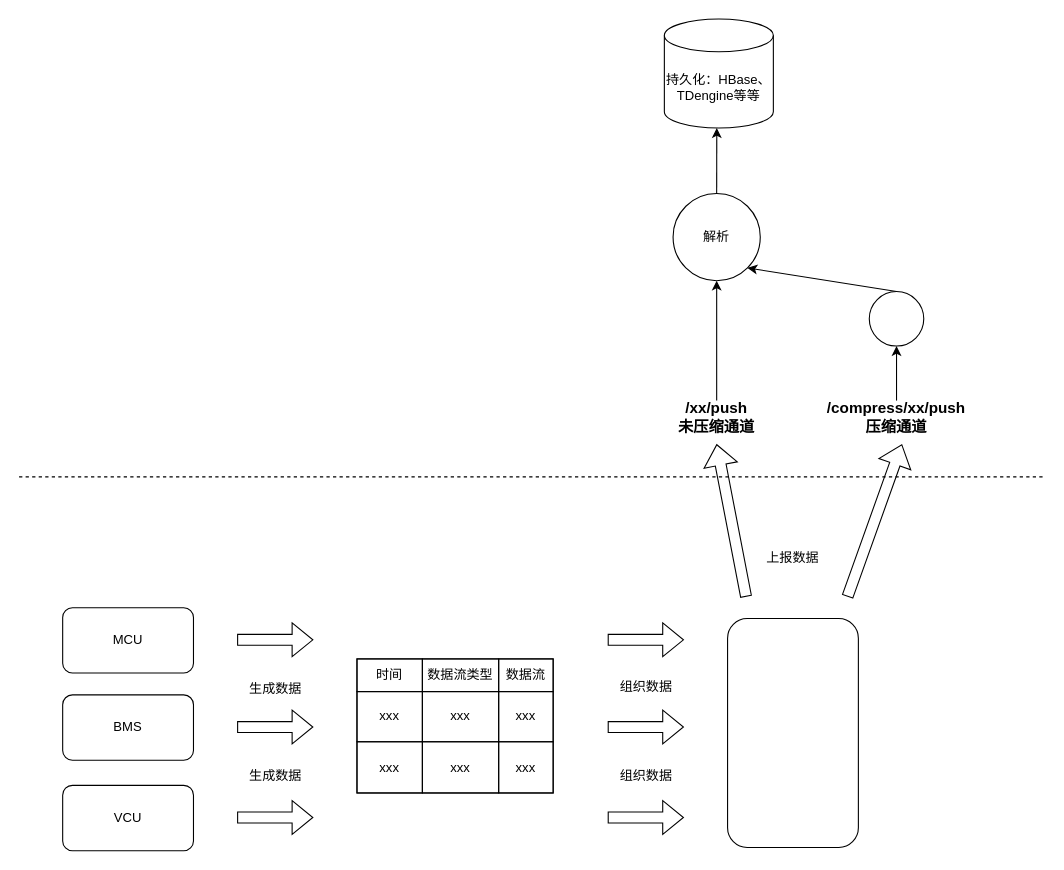
Some shapes in this 1064 by 870 pixel diagram are drawn without their labels. Each missing label, with the centre of its shape:
ECU: (792,732)
解压: (896,318)
